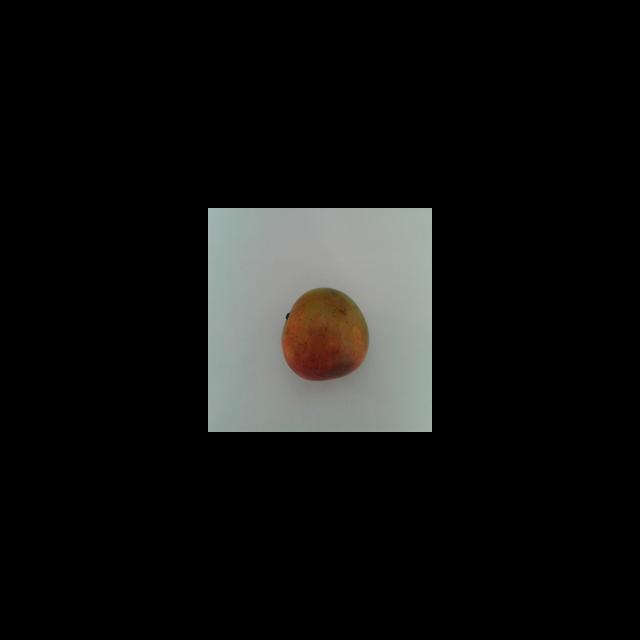Mango: (280, 286, 368, 381)
